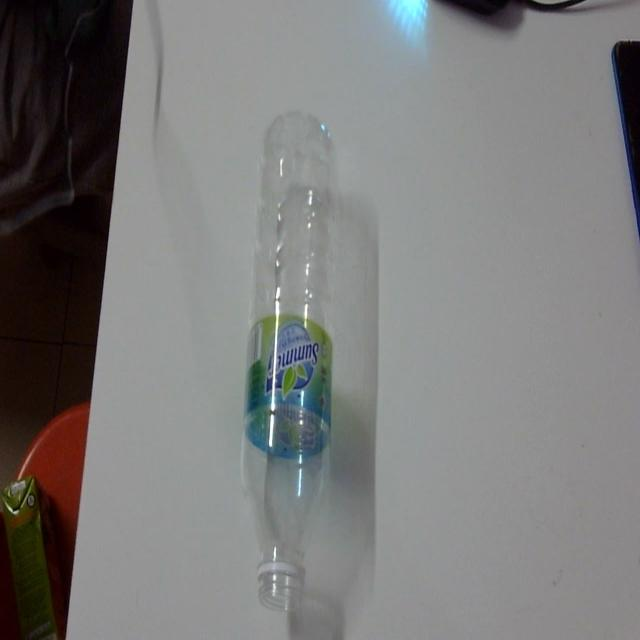plastic_laydown_90rotation: (233, 101, 347, 614)
